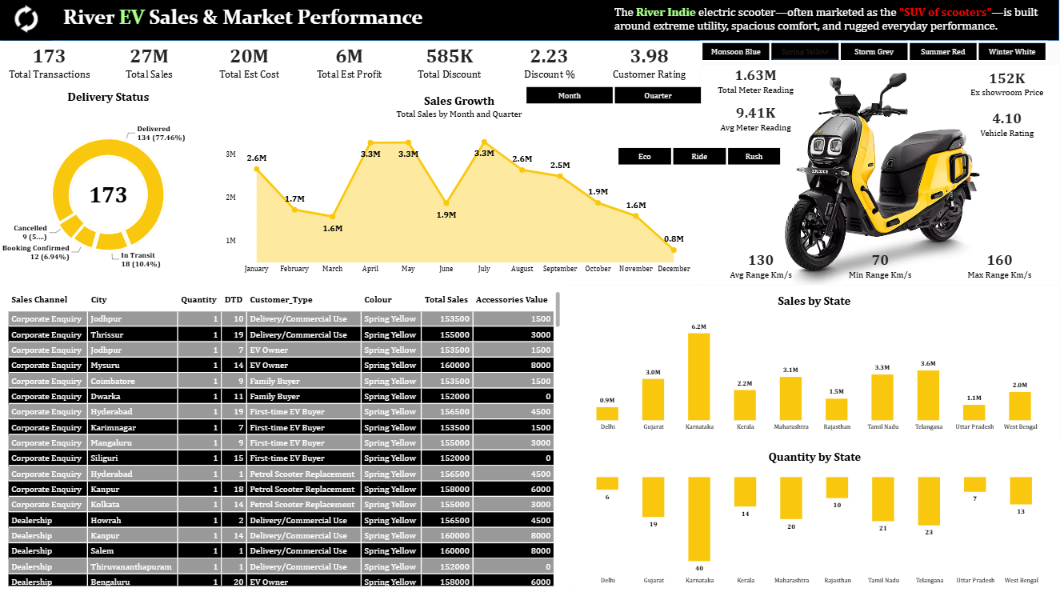

The page's visual inventory and layout, read from the dashboard file:
{"tool":"powerbi","page":{"name":"Page 1","canvas":[1920,1080],"ordinal":0},"visuals":[{"type":"cardVisual","fields":{"Data":["Transactions.Total Transactions","Transactions.Total Sales","Transactions.Total Est Cost","Transactions.Total Est Profit","Transactions.Total Discount Given","Transactions.Total Discount Percentage","Transactions.Customer Rating"]},"box":[0,76,1268.6,83.2],"z":0},{"type":"cardVisual","fields":{"Data":["Min(Transactions.Image URL)"]},"box":[1270.5,122.1,649.5,399.1],"z":0,"group":"g1"},{"type":"shape","box":[0,0,1918.2,77.8],"z":1000},{"type":"cardVisual","fields":{"Data":["Transactions.Ex showroom price of Individual Vehicle"]},"box":[1727.7,120.1,191.9,72.4],"z":2000,"group":"g2"},{"type":"lineChart","title":"Sales Growth","fields":{"Category":["Transactions.Order_Date.Variation.Date Hierarchy.Month","Transactions.Order_Date.Variation.Date Hierarchy.Quarter"],"Y":["Transactions.Total Sales"]},"box":[394.5,159.3,875.9,360.1],"z":2000},{"type":"advancedSlicerVisual","fields":{"Values":["Date Axis.Date Axis"]},"box":[930.2,157.4,365.6,38],"z":3000},{"type":"advancedSlicerVisual","fields":{"Values":["Transactions.Colour"]},"box":[1248.7,77.8,669.6,39.8],"z":4000},{"type":"cardVisual","fields":{"Data":["Transactions.Average Rating"]},"box":[1727.7,192.5,191.9,75.7],"z":4000,"group":"g2"},{"type":"cardVisual","fields":{"Data":["Transactions.Average Range","Transactions.Minimum Range","Transactions.Maximum Range"]},"box":[1270.4,454.5,649.7,62.2],"z":4000,"group":"g1"},{"type":"actionButton","box":[0,0,97.7,77.8],"z":5000},{"type":"cardVisual","fields":{"Data":["Transactions.Total Odometer Reading","Transactions.Average Odometer Reading"]},"box":[1269.7,118.3,197.3,135.7],"z":5000,"group":"g1"},{"type":"textbox","box":[97.7,12.7,803.5,56.1],"z":6000},{"type":"donutChart","title":"Delivery Status","fields":{"Category":["Transactions.Delivery_Status"],"Y":["CountNonNull(Transactions.Delivery_Status)"]},"box":[0,152,394.5,369.2],"z":7000},{"type":"lineClusteredColumnComboChart","title":"Sales by State","fields":{"Category":["Transactions.State"],"Y":["Transactions.Total Sales"]},"box":[1031.5,521.2,886.7,282.3],"z":8000},{"type":"group","id":"g1","title":"Group 2","box":[1269.7,118.3,650.4,402.9],"z":9000},{"type":"group","id":"g2","title":"Group 1","box":[1727.7,120.1,191.9,149.9],"z":9000,"group":"g1"},{"type":"clusteredColumnChart","title":"Quantity by State","fields":{"Category":["Transactions.State"],"Y":["CountNonNull(Transactions.Quantity)"]},"box":[1031.5,803.5,888.5,276.9],"z":10000},{"type":"tableEx","fields":{"Values":["Transactions.Sales_Channel","Transactions.City","Sum(Transactions.Quantity)","Sum(Transactions.Days_To_Delivery)","Transactions.Customer_Type","Transactions.Colour","Transactions.Total Sales","Transactions.Accessories Value"]},"box":[0,517.6,1031.5,562.8],"z":11000},{"type":"advancedSlicerVisual","fields":{"Values":["Transactions.Preferred_Riding_Mode"]},"box":[1096.7,267.8,343.8,38],"z":12000},{"type":"textbox","box":[1112.9,12.7,805.3,54.3],"z":12001}]}

Visuals, with their boxes in screenshot pixels (x1, y1, x2, y2), scaled from the page's 1920x1080 canvas onto the 1060x592 screenshot:
cardVisual - Transactions.Total Transactions x Transactions.Total Sales: 0/42/700/87
cardVisual - Min(Transactions.Image URL): 701/67/1059/286
shape: 0/0/1059/43
cardVisual - Transactions.Ex showroom price of Individual Vehicle: 954/66/1059/106
"Sales Growth" lineChart: 218/87/701/285
advancedSlicerVisual - Date Axis.Date Axis: 514/86/715/107
advancedSlicerVisual - Transactions.Colour: 689/43/1059/64
cardVisual - Transactions.Average Rating: 954/106/1059/147
cardVisual - Transactions.Average Range x Transactions.Minimum Range: 701/249/1059/283
actionButton: 0/0/54/43
cardVisual - Transactions.Total Odometer Reading x Transactions.Average Odometer Reading: 701/65/810/139
textbox: 54/7/498/38
"Delivery Status" donutChart: 0/83/218/286
"Sales by State" lineClusteredColumnComboChart: 569/286/1059/440
"Group 2" group: 701/65/1059/286
"Group 1" group: 954/66/1059/148
"Quantity by State" clusteredColumnChart: 569/440/1059/591
tableEx - Transactions.Sales_Channel x Transactions.City: 0/284/569/591
advancedSlicerVisual - Transactions.Preferred_Riding_Mode: 605/147/795/168
textbox: 614/7/1059/37
